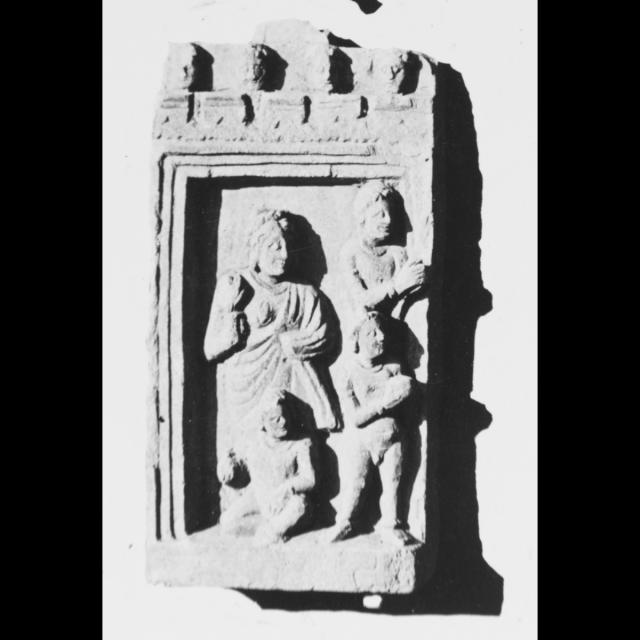buddha-standing: (204, 186, 337, 539)
